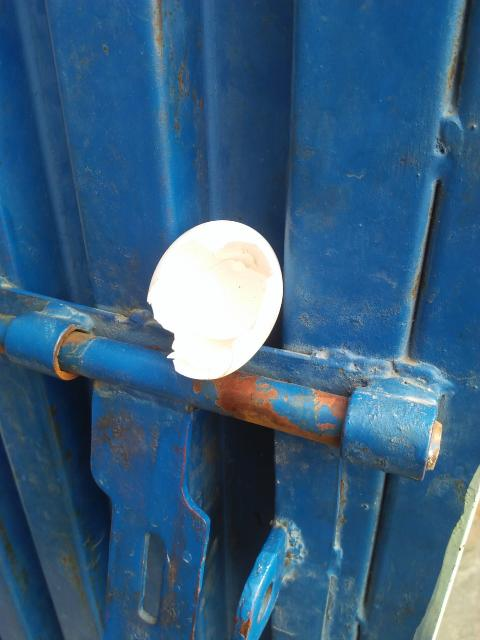Roto: (146, 218, 284, 380)
